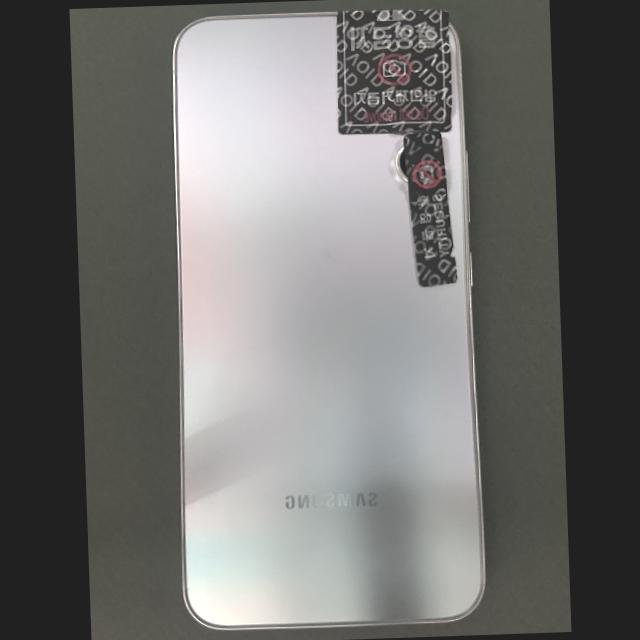lens: (395, 144, 407, 181)
phone: (173, 12, 483, 628)
sticker: (335, 10, 453, 135), (403, 131, 458, 287)
